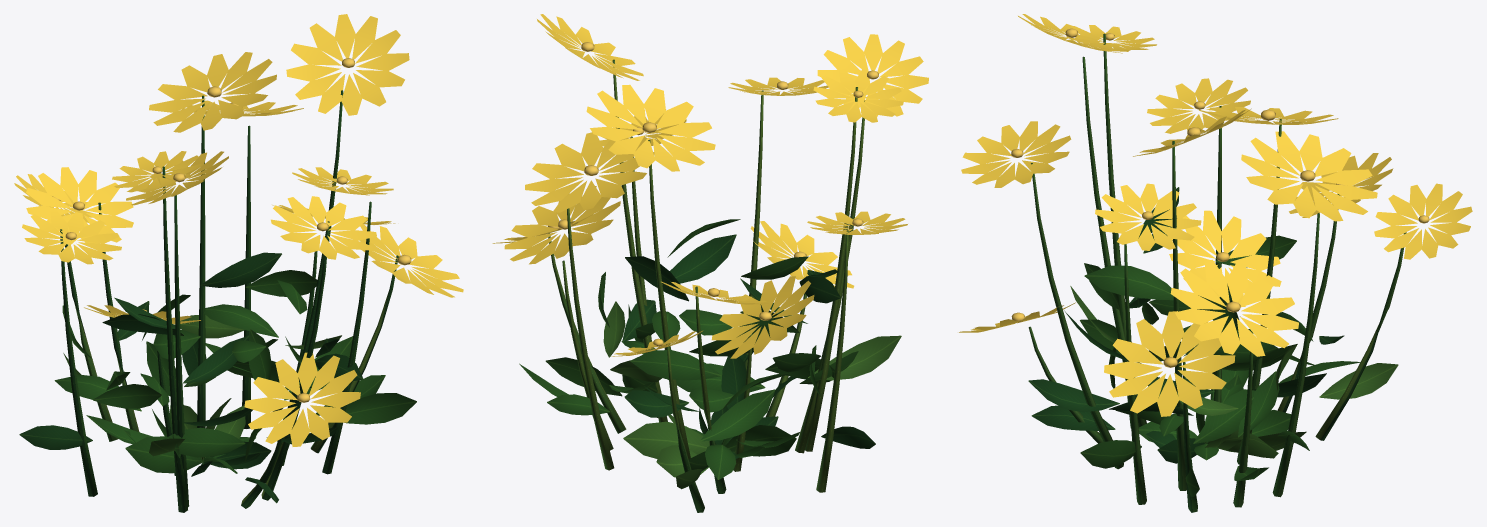
The model's file is Yellow_wildflowers_2.glb.
The picture shows the model from 3 angles, left to right: view 1: azimuth 30°, elevation 25°; view 2: azimuth 150°, elevation 25°; view 3: azimuth 270°, elevation 25°; orthographic projection. The views are drawn at different scales.
Parts seen in each view (by area): view 1: Yellow_wildflowers_2_Flowers.003, Yellow_wildflowers_2_Leaves.004, Yellow_wildflowers_2_Stems.004, Yellow_wildflowers_2_Centers.003; view 2: Yellow_wildflowers_2_Flowers.003, Yellow_wildflowers_2_Leaves.004, Yellow_wildflowers_2_Stems.004, Yellow_wildflowers_2_Centers.003; view 3: Yellow_wildflowers_2_Flowers.003, Yellow_wildflowers_2_Leaves.004, Yellow_wildflowers_2_Stems.004, Yellow_wildflowers_2_Centers.003.
Part boxes in pixels (x1,y1,x2,y2): Yellow_wildflowers_2_Flowers.003: (14, 14, 463, 446); Yellow_wildflowers_2_Leaves.004: (19, 252, 416, 503); Yellow_wildflowers_2_Stems.004: (60, 90, 398, 512); Yellow_wildflowers_2_Centers.003: (52, 58, 411, 402); Yellow_wildflowers_2_Flowers.003: (492, 14, 928, 358); Yellow_wildflowers_2_Leaves.004: (519, 219, 901, 489); Yellow_wildflowers_2_Stems.004: (548, 59, 864, 512); Yellow_wildflowers_2_Centers.003: (548, 42, 878, 346); Yellow_wildflowers_2_Flowers.003: (959, 14, 1472, 416); Yellow_wildflowers_2_Leaves.004: (1028, 187, 1398, 496); Yellow_wildflowers_2_Stems.004: (1028, 33, 1406, 512); Yellow_wildflowers_2_Centers.003: (1011, 28, 1429, 367).
Bounding box in the file's own units: 1.1 × 1.04 × 1.14.
3 materials, 1 textured.
